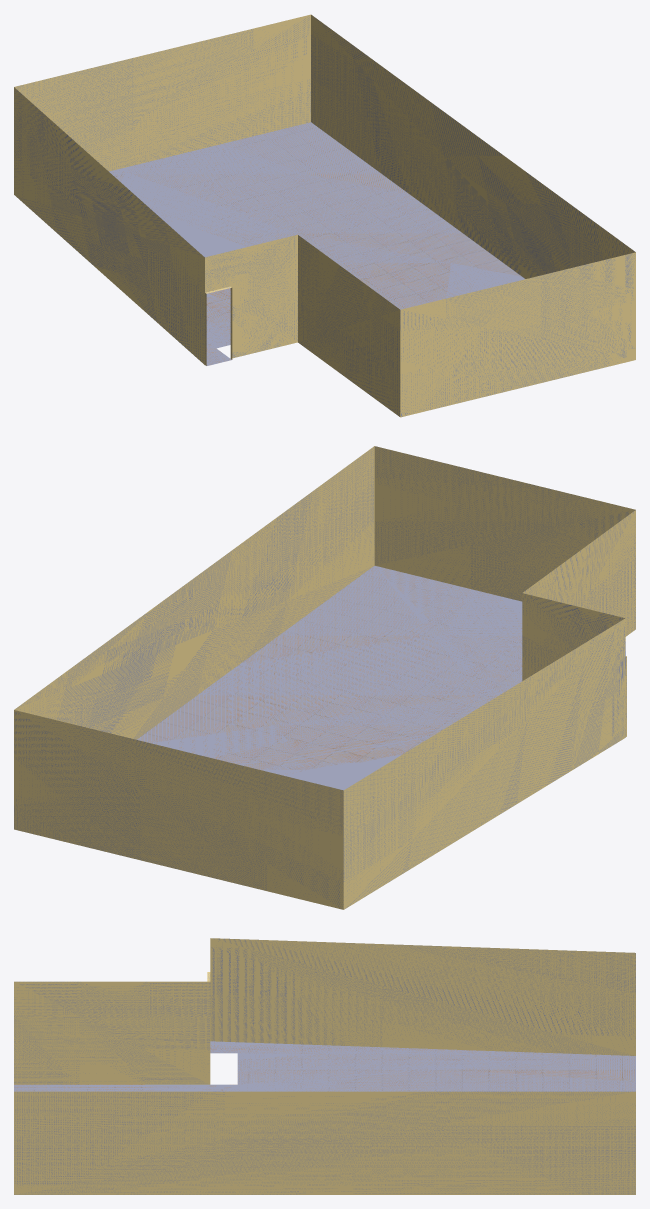
File: COM001.obj
3 renders of one model, top to bottom at view 1: azimuth 30°, elevation 25°; view 2: azimuth 150°, elevation 25°; view 3: azimuth 270°, elevation 25°, orthographic. The views are drawn at different scales.
Visible parts, largest first — view 1: Mesh1 COM001 Model; view 2: Mesh1 COM001 Model; view 3: Mesh1 COM001 Model.
Part boxes in pixels (bbox=[...]): Mesh1 COM001 Model: bbox=[14, 14, 635, 417]; Mesh1 COM001 Model: bbox=[14, 446, 635, 909]; Mesh1 COM001 Model: bbox=[14, 938, 635, 1194].
Size of the model in its own units: 9.59 by 3 by 16.41.
Materials: 3 (1 with a texture image).
